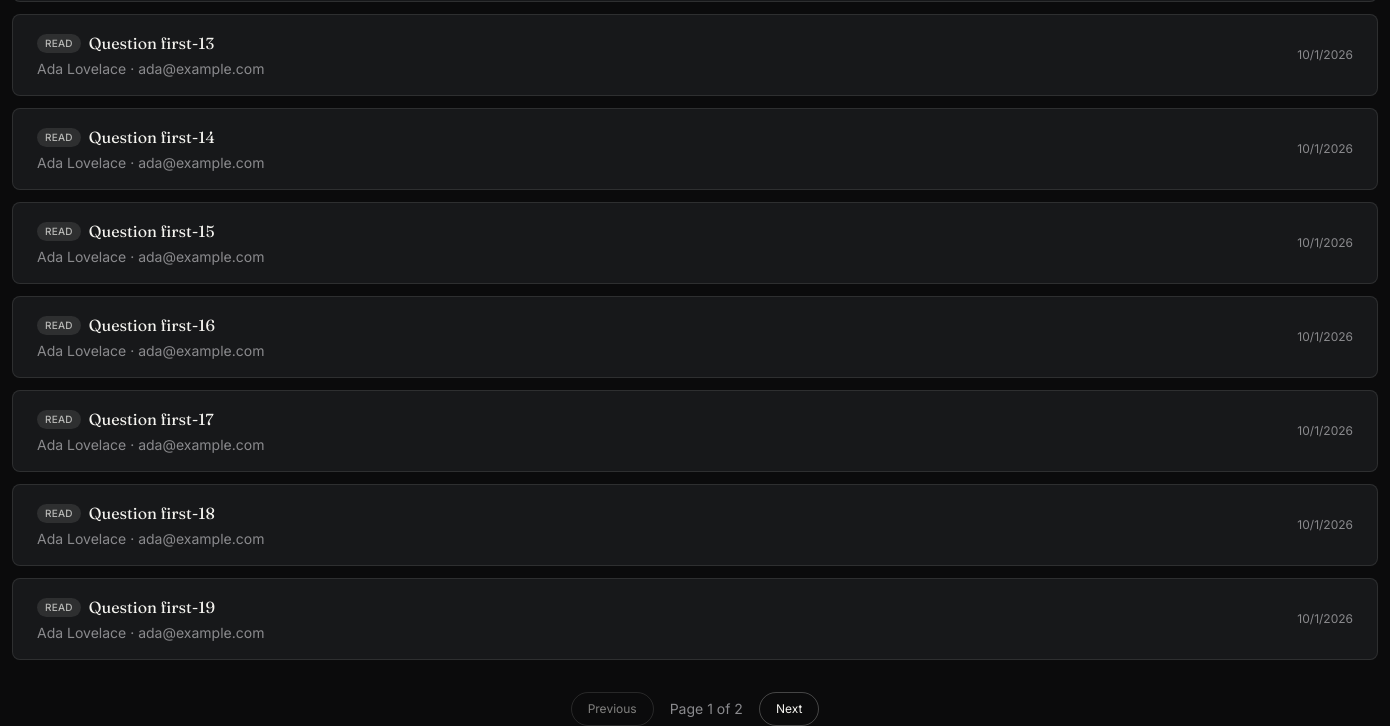
admin contact support inbox › moves back when archiving empties the current page
(page scrolled)
Step 1. Click the button "Next" → point(789, 709), box [759, 692, 819, 725]
(page scrolled)
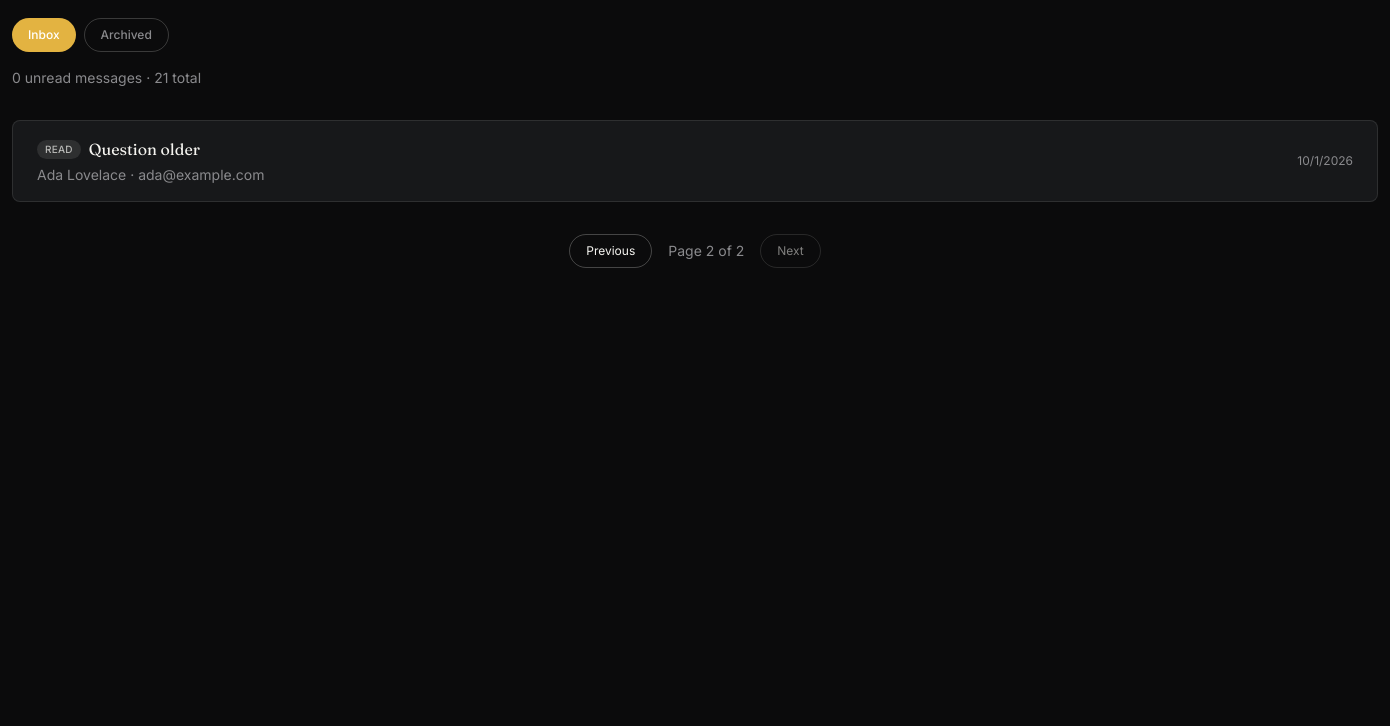
Check: the text "Question older" is shown, box [89, 137, 200, 161]
Check: the navigation bar named "Contact message pagination" shows "Page 2 of 2", box [569, 234, 821, 268]
Step 2. Click the button "READ Question older Ada Lovelace · ada@example.com 10/1/2026" → point(59, 149), box [13, 121, 1377, 201]
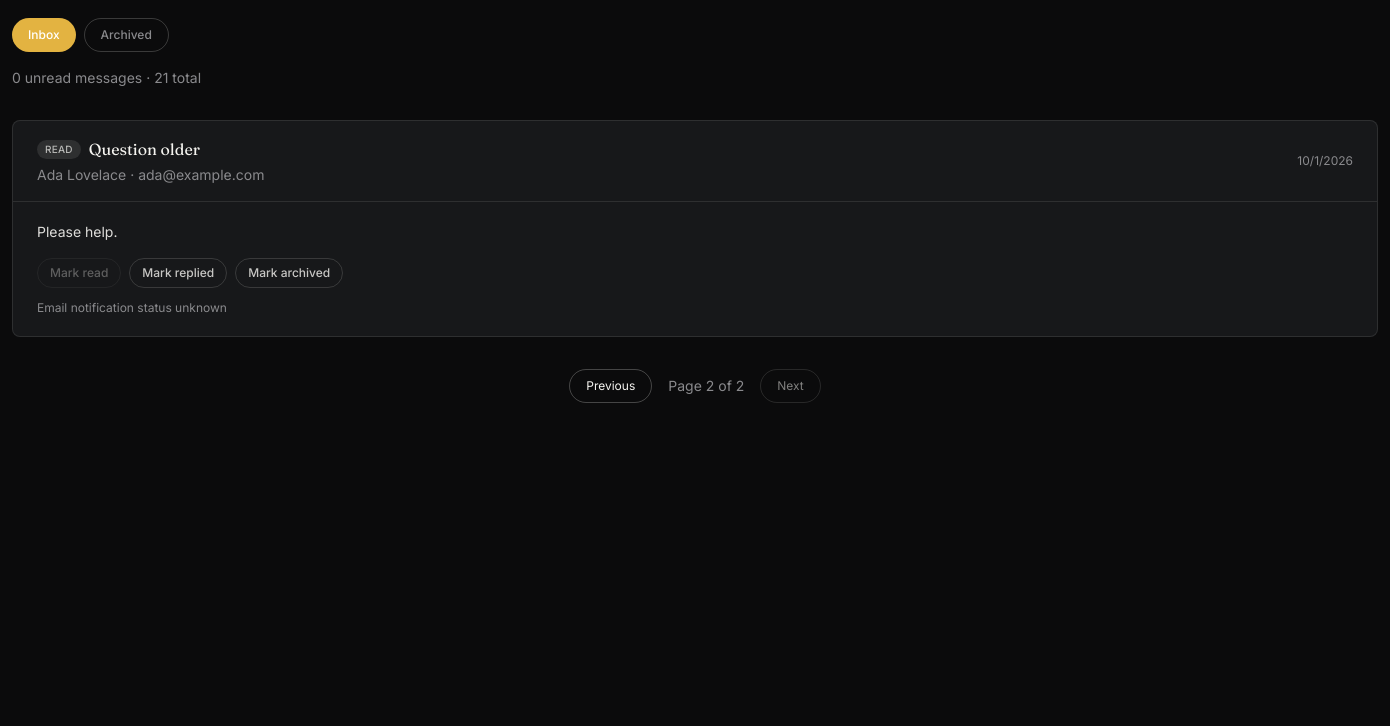
Step 3. Click the button "Mark archived" → point(289, 273), box [235, 258, 343, 288]
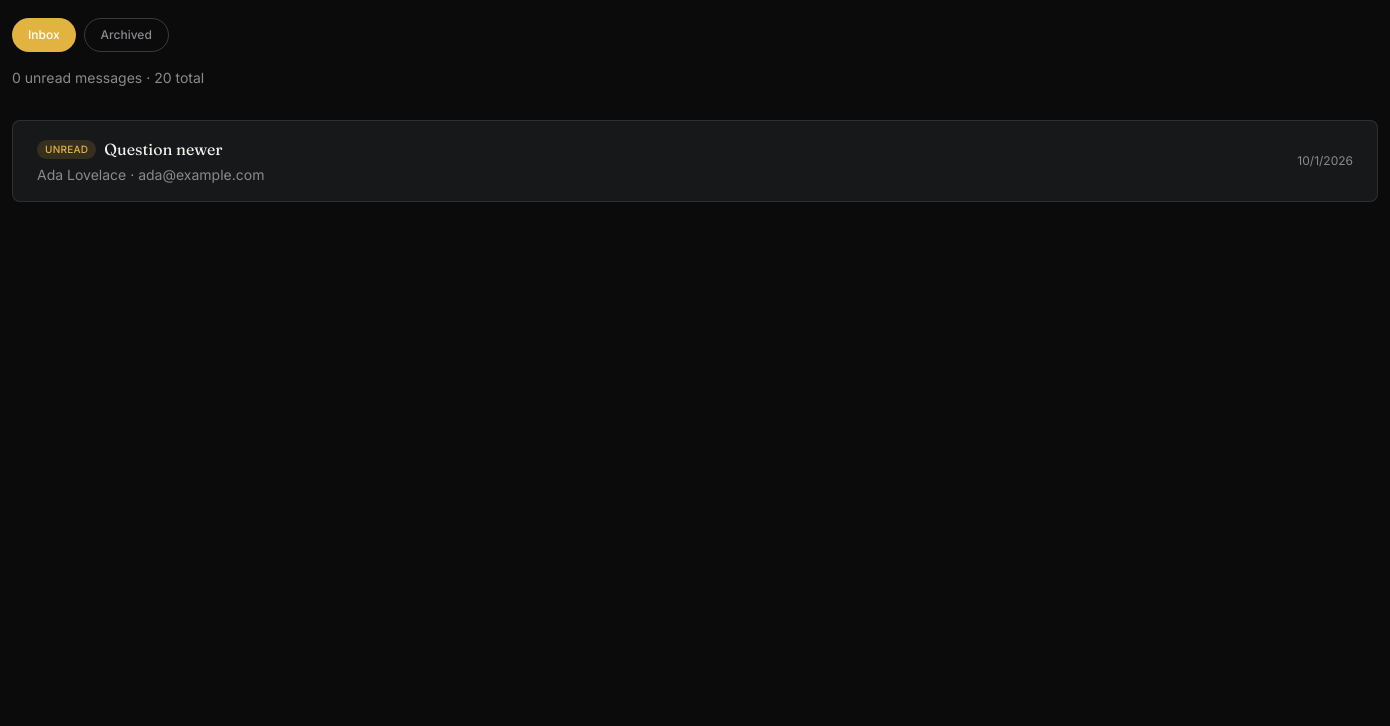
Check: the text "Question newer" is shown, box [104, 137, 223, 161]
